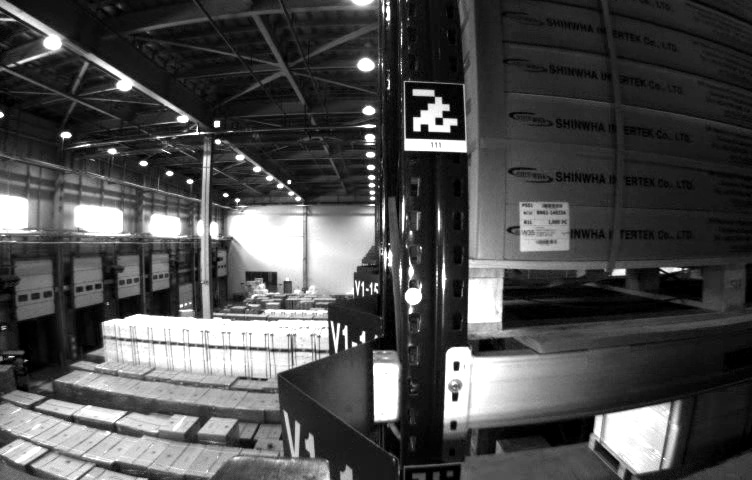True Barcode: (515, 199, 571, 251)
